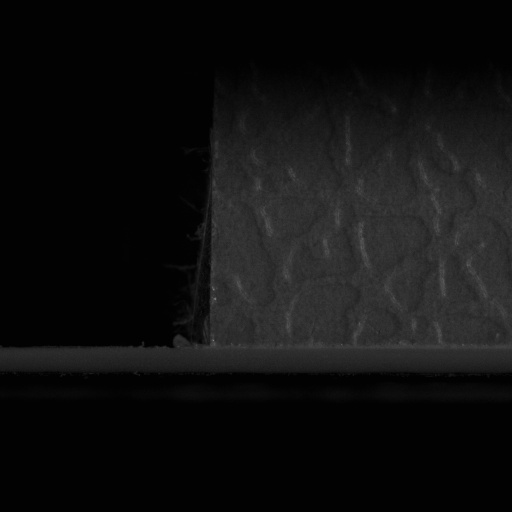changdai: (3, 344, 211, 375)
